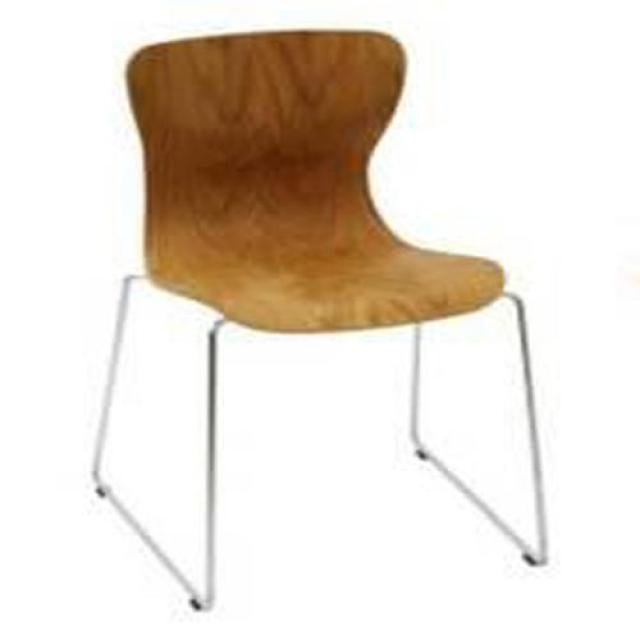chair: (92, 29, 558, 611)
